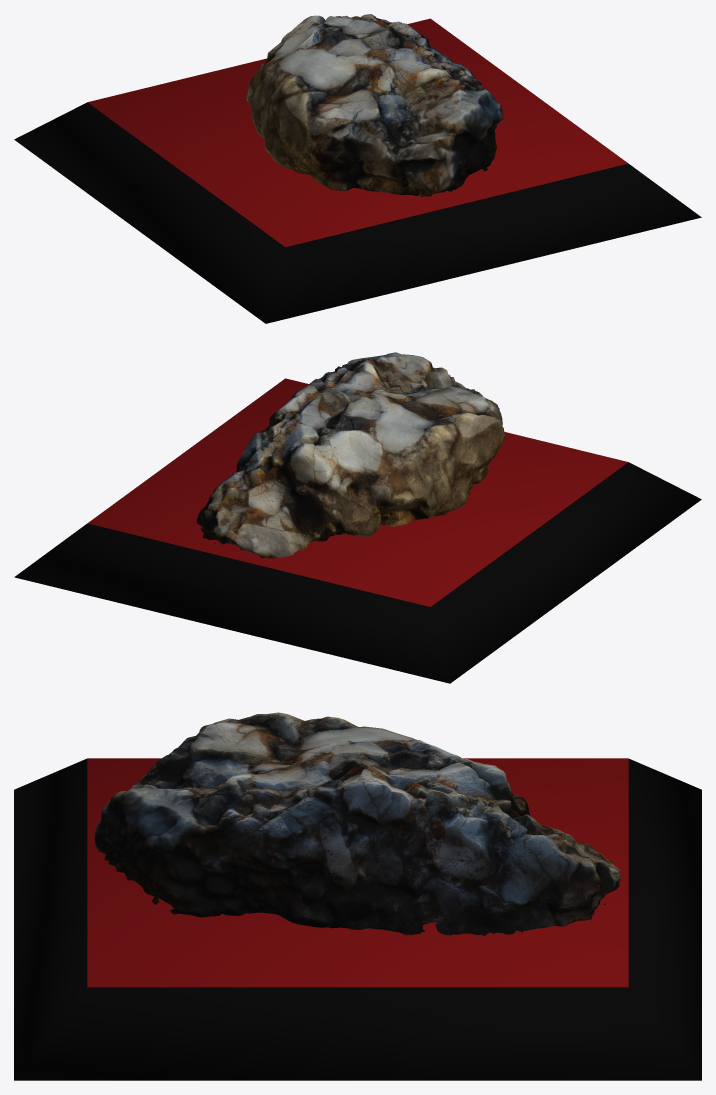
The model's file is Conglomerado_Meztitlan.glb.
The picture shows the model from 3 angles, top to bottom: view 1: azimuth 30°, elevation 25°; view 2: azimuth 150°, elevation 25°; view 3: azimuth 270°, elevation 25°; orthographic projection. The views are drawn at different scales.
Visible parts, largest first — view 1: mesh1; view 2: mesh1; view 3: mesh1.
Part boxes in pixels (box(x1,y1,x2,y2)): mesh1: box(14, 14, 701, 323); mesh1: box(14, 352, 701, 683); mesh1: box(14, 712, 701, 1080).
Size of the model in its own units: 10 by 3.12 by 10.
4 materials, 2 textured.
